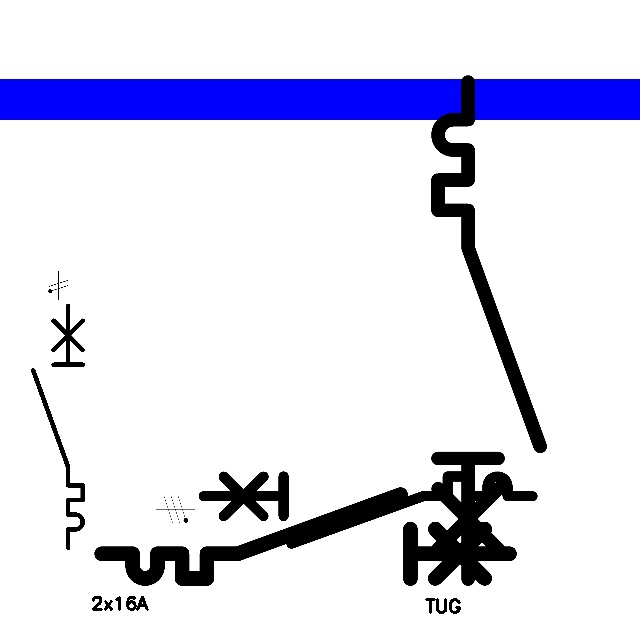interruptor_termomagnetico: (425, 69, 553, 592), (91, 484, 520, 589), (195, 468, 541, 552), (27, 299, 89, 553)
